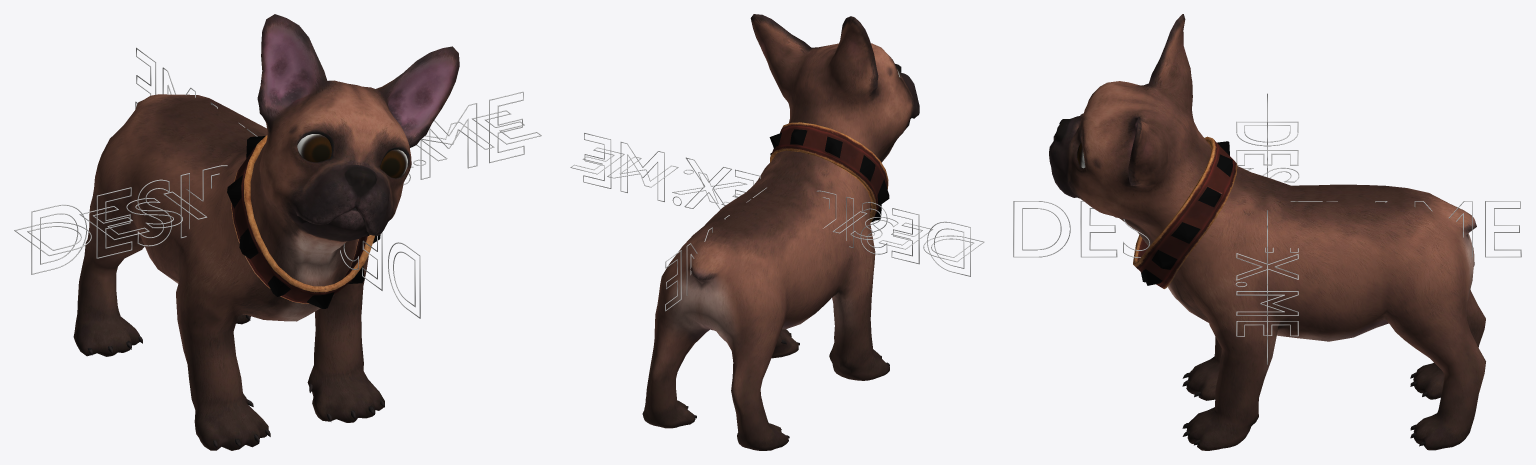
Rendered from french_dog.obj.
The picture shows the model from 3 angles, left to right: view 1: azimuth 30°, elevation 25°; view 2: azimuth 150°, elevation 25°; view 3: azimuth 270°, elevation 25°; orthographic projection. The views are drawn at different scales.
Parts seen in each view (by area): view 1: desirefx_me_8_mesh0_mesh0000.007, desirefx_me_1_mesh0_mesh0000, Text.001_Text.002, Text.004_Text.001, Text.003_Text, desirefx_me_3_mesh0_mesh0000.002, desirefx_me_2_mesh0_mesh0000.001; view 2: desirefx_me_8_mesh0_mesh0000.007, desirefx_me_1_mesh0_mesh0000, Text.001_Text.002, Text.004_Text.001, Text.003_Text; view 3: desirefx_me_8_mesh0_mesh0000.007, desirefx_me_1_mesh0_mesh0000, Text.004_Text.001, Text.003_Text.
Boxes of the visible parts, x1,y1,x2,y2 form: desirefx_me_8_mesh0_mesh0000.007: (73,14,459,450); desirefx_me_1_mesh0_mesh0000: (227,135,380,308); Text.001_Text.002: (31,91,524,274); Text.004_Text.001: (14,110,541,255); Text.003_Text: (135,47,420,318); desirefx_me_3_mesh0_mesh0000.002: (297,134,331,162); desirefx_me_2_mesh0_mesh0000.001: (380,149,407,178); desirefx_me_8_mesh0_mesh0000.007: (642,14,919,450); desirefx_me_1_mesh0_mesh0000: (769,122,889,222); Text.001_Text.002: (583,133,970,276); Text.004_Text.001: (570,147,984,261); Text.003_Text: (665,187,766,311); desirefx_me_8_mesh0_mesh0000.007: (1049,14,1485,450); desirefx_me_1_mesh0_mesh0000: (1133,136,1237,288); Text.004_Text.001: (1235,121,1299,336); Text.003_Text: (1013,201,1521,257).
Size of the model in its own units: 11.62 by 9.74 by 11.62.
